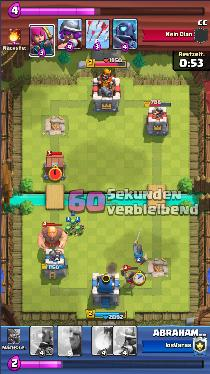ally_goblin_cage: (42, 153, 67, 180)
ally_knight: (132, 243, 149, 264)
ally_spear_goblin: (75, 226, 84, 235), (70, 217, 77, 228), (66, 226, 73, 235)
enemy_giant: (38, 225, 67, 250)
enemy_knight: (122, 269, 139, 286)
